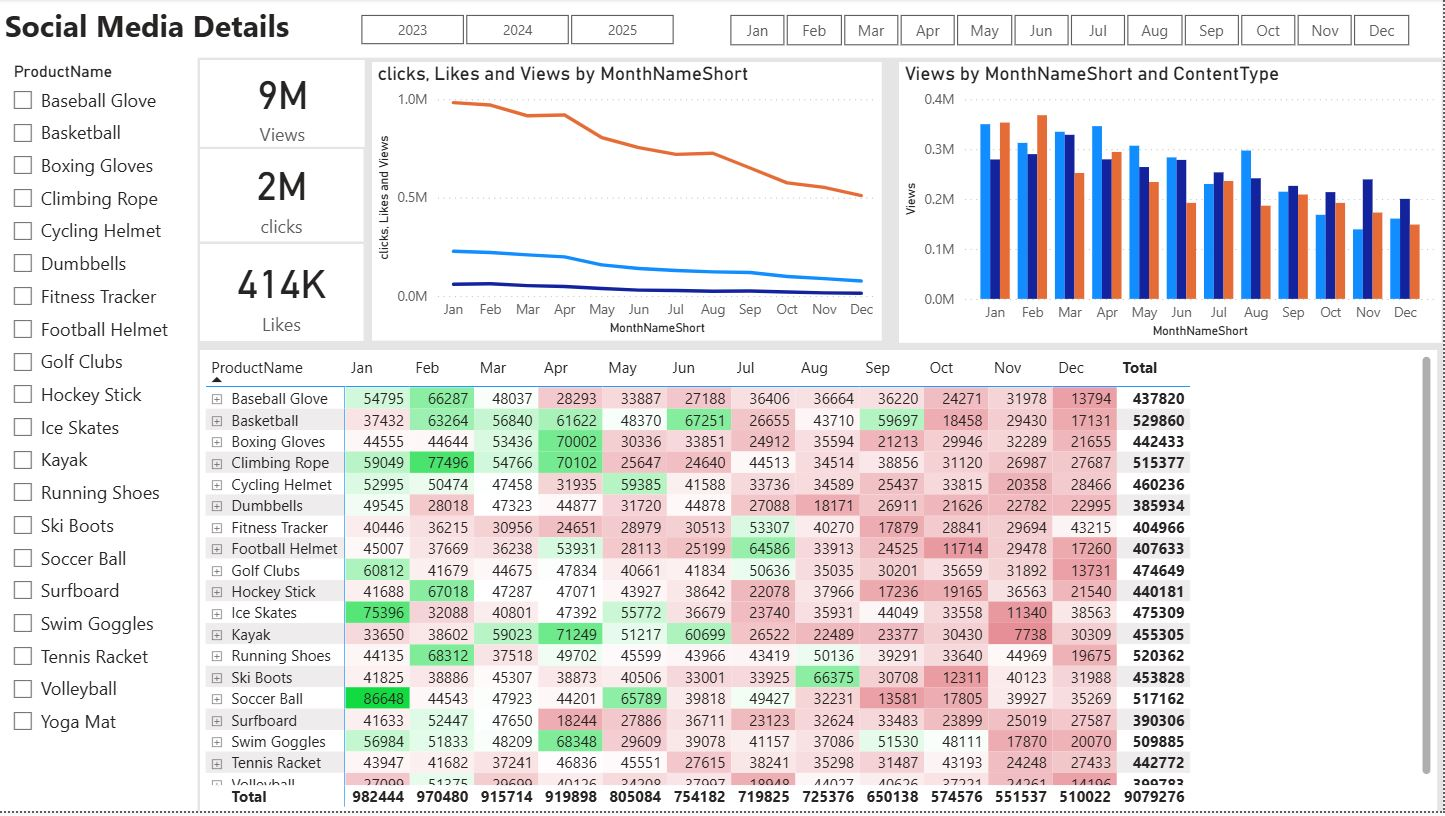

Layout of this report page (visuals, bound fields, positions):
{"tool":"powerbi","page":{"name":"Social Media Details","canvas":[1280,720],"ordinal":2},"visuals":[{"type":"textbox","box":[0,0,1280.4,52.3],"z":0},{"type":"slicer","fields":{"Values":["dm_products.ProductName"]},"box":[0,51.3,175.9,669.3],"z":1000},{"type":"card","fields":{"Values":["_Calculations.Views"]},"box":[178.2,54.1,146.3,77.1],"z":2000},{"type":"card","fields":{"Values":["_Calculations.clicks"]},"box":[178.2,133,144.5,81.6],"z":3000},{"type":"card","fields":{"Values":["_Calculations.Likes"]},"box":[178.2,217.2,144.5,86],"z":4000},{"type":"slicer","fields":{"Values":["Calendar.Year"]},"box":[295.3,7.1,327.2,37.2],"z":5000},{"type":"slicer","fields":{"Values":["Calendar.MonthNameShort"]},"box":[622.5,7.1,651.7,37.2],"z":6000},{"type":"lineChart","fields":{"Category":["Calendar.MonthNameShort"],"Y":["_Calculations.clicks","_Calculations.Likes","_Calculations.Views"]},"box":[330.7,55.9,452.2,246.5],"z":7000},{"type":"clusteredColumnChart","fields":{"Category":["Calendar.MonthNameShort"],"Series":["fact_engagement_data.ContentType"],"Y":["_Calculations.Views"]},"box":[783.1,55.9,495.1,247.5],"z":8000},{"type":"pivotTable","fields":{"Rows":["dm_products.ProductName","fact_engagement_data.ContentType"],"Columns":["Calendar.MonthNameShort"],"Values":["_Calculations.Views"]},"box":[178.5,311.8,1096.1,409.4],"z":9000}]}

Visuals, with their boxes in screenshot pixels (x1, y1, x2, y2), scaled from the page's 1280x720 canvas onto the 1445x816 screenshot:
textbox: detection(0, 0, 1444, 59)
slicer - dm_products.ProductName: detection(0, 58, 199, 815)
card - _Calculations.Views: detection(201, 61, 366, 149)
card - _Calculations.clicks: detection(201, 151, 364, 243)
card - _Calculations.Likes: detection(201, 246, 364, 344)
slicer - Calendar.Year: detection(333, 8, 703, 50)
slicer - Calendar.MonthNameShort: detection(703, 8, 1438, 50)
lineChart - Calendar.MonthNameShort x _Calculations.clicks: detection(373, 63, 884, 343)
clusteredColumnChart - Calendar.MonthNameShort x fact_engagement_data.ContentType: detection(884, 63, 1443, 344)
pivotTable - dm_products.ProductName x fact_engagement_data.ContentType: detection(202, 353, 1439, 815)
